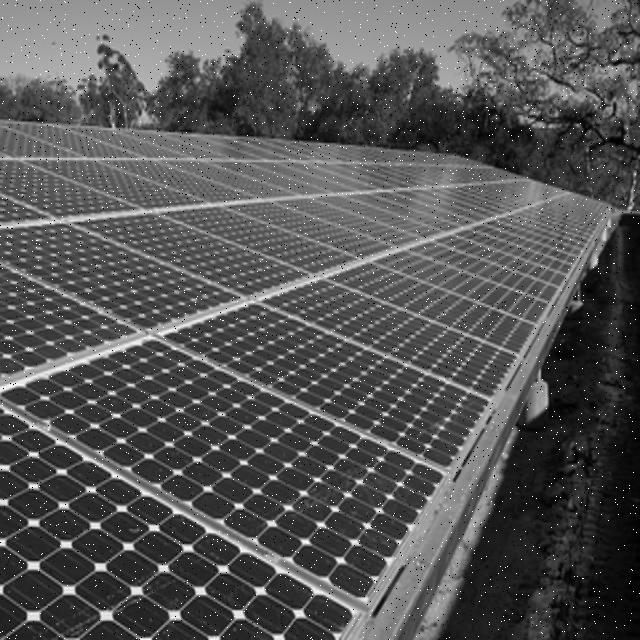clean: (3, 119, 611, 631)
